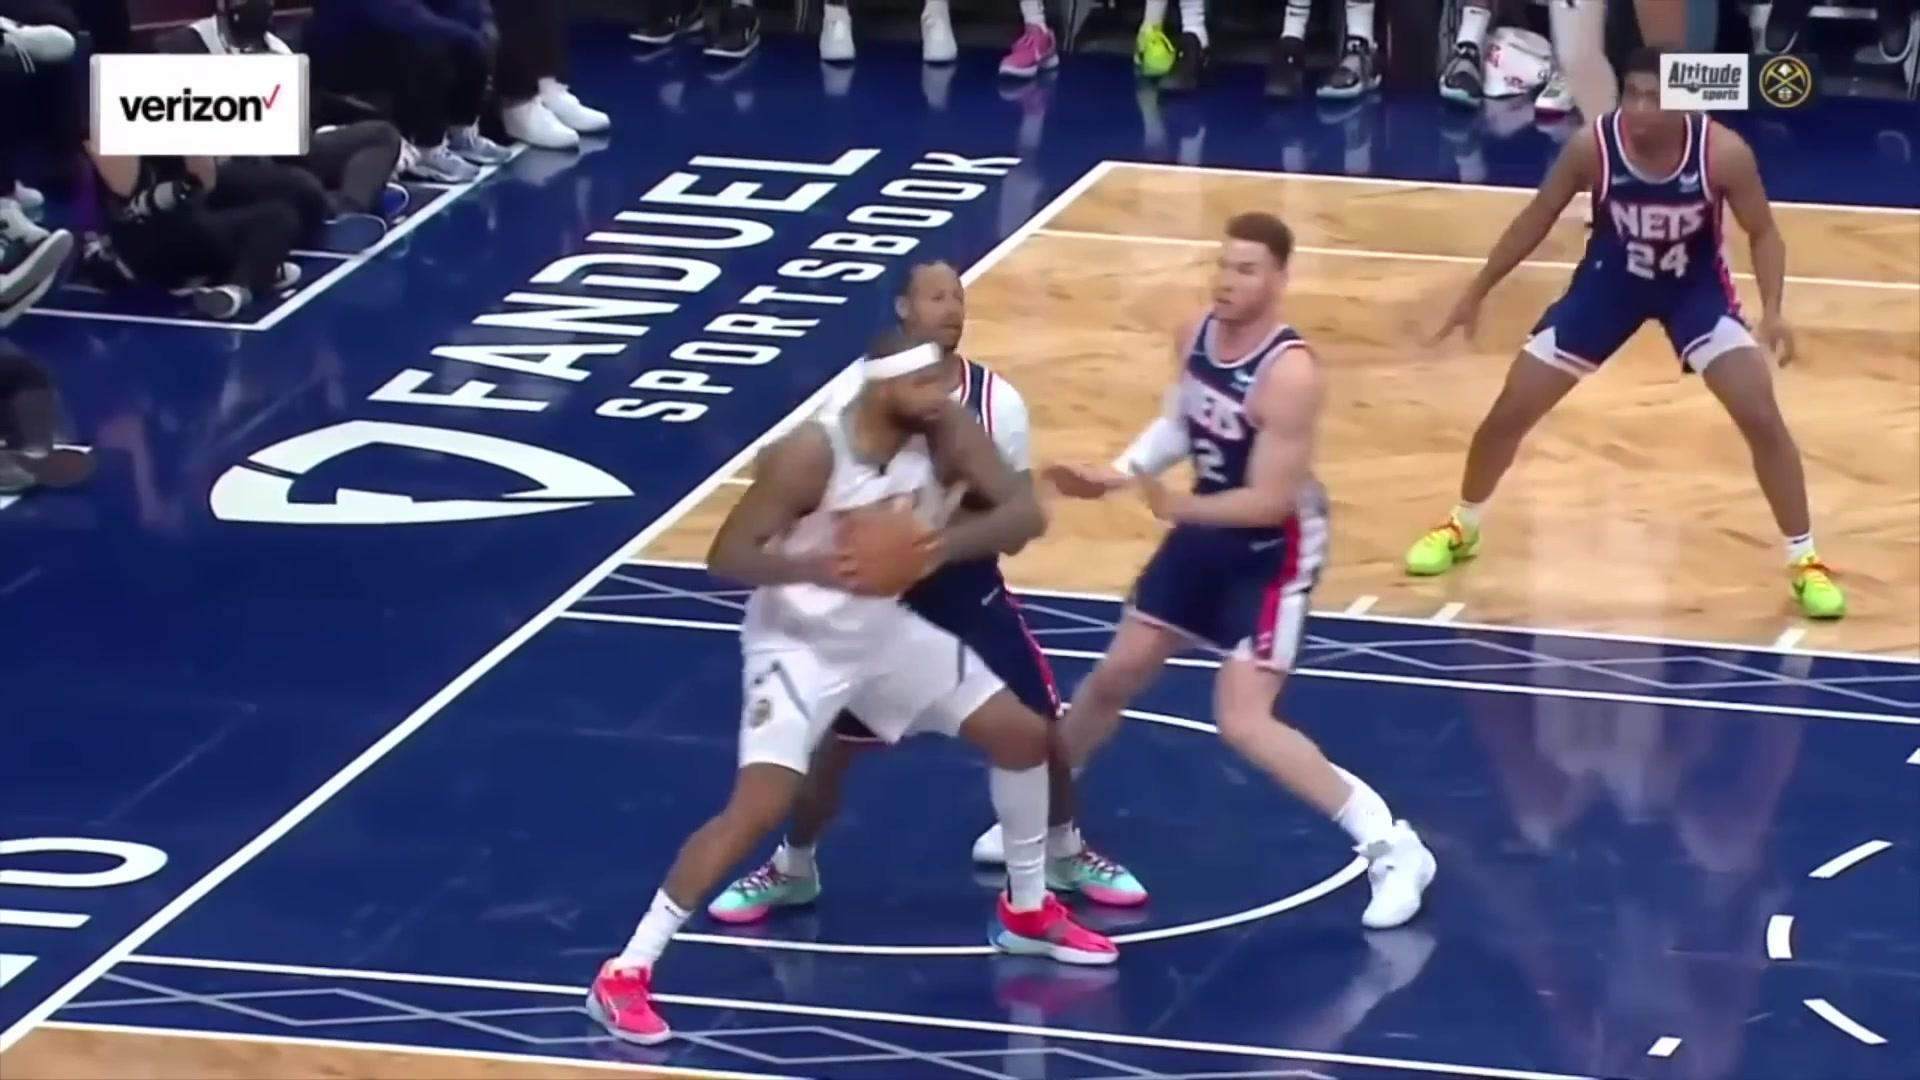foul: (613, 249, 1110, 1014)
